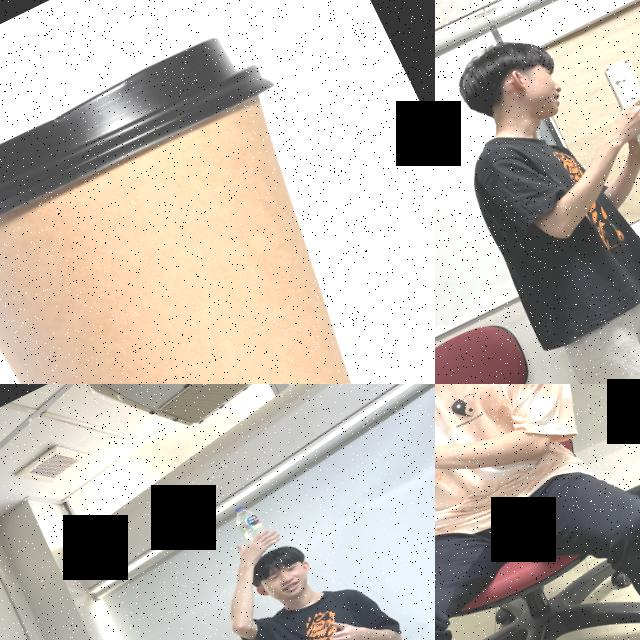bottle: (229, 498, 280, 560)
cup: (0, 21, 435, 384)
